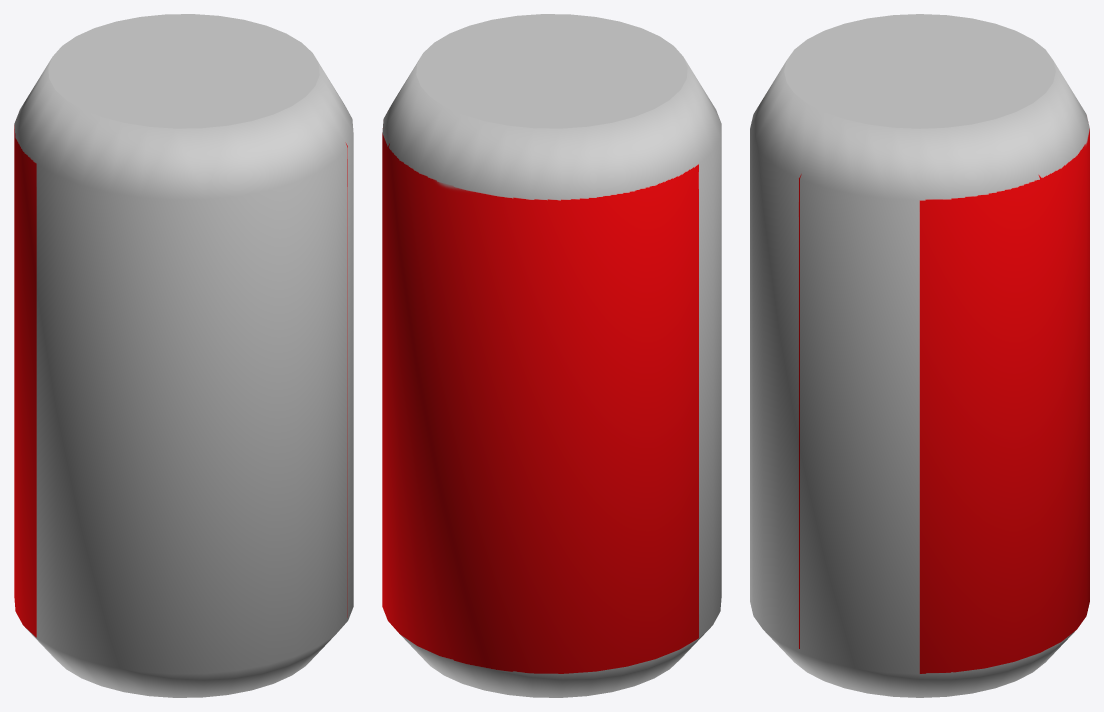
The model's file is redCan.fbx.
3 renders of one model, left to right at view 1: azimuth 30°, elevation 25°; view 2: azimuth 150°, elevation 25°; view 3: azimuth 270°, elevation 25°, orthographic.
Parts seen in each view (by area): view 1: Cylinder; view 2: Cylinder; view 3: Cylinder.
Boxes of the visible parts, x1=… form: Cylinder: x1=14, y1=14, x2=353, y2=697; Cylinder: x1=382, y1=14, x2=721, y2=697; Cylinder: x1=750, y1=14, x2=1089, y2=697.
Size of the model in its own units: 0.066 by 0.066 by 0.122.
